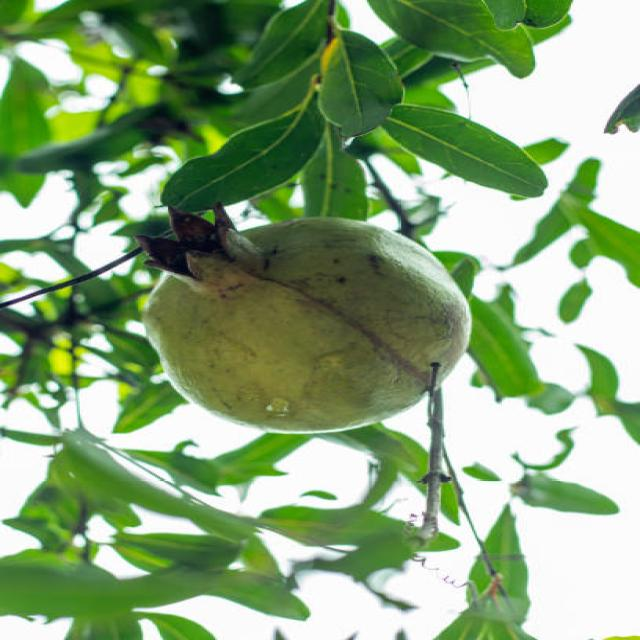Unripe: (138, 208, 473, 436)
